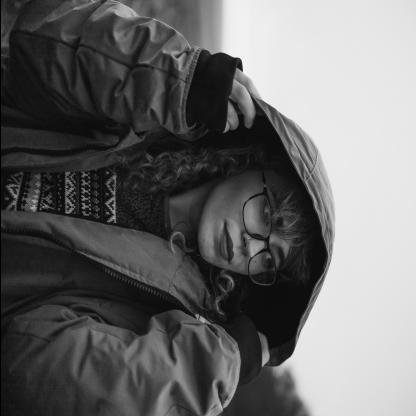Eye: (261, 199, 273, 227), (260, 251, 275, 273)
Mouth: (218, 217, 235, 266)
Nose: (240, 232, 266, 260)
